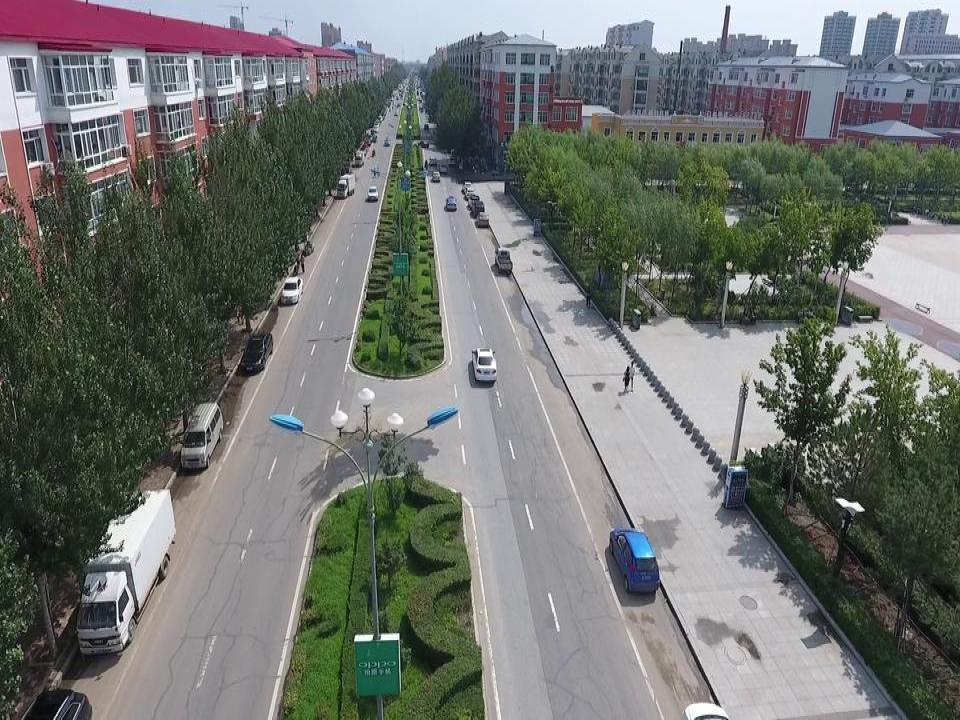car: (602, 516, 669, 601), (239, 331, 275, 376), (469, 340, 503, 383), (273, 273, 309, 307), (362, 174, 388, 206), (443, 190, 461, 218), (475, 210, 490, 230), (429, 169, 443, 187)
truck: (64, 479, 174, 660), (490, 240, 515, 279), (327, 172, 359, 201)
van: (173, 395, 233, 472)
